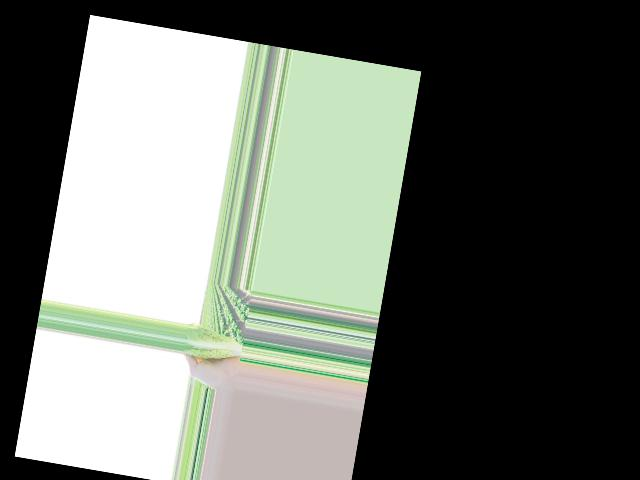lettuce: (184, 324, 245, 363)
